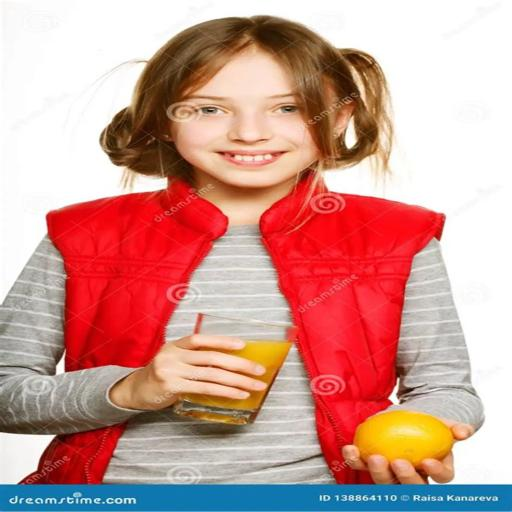orange: (354, 411, 454, 468)
